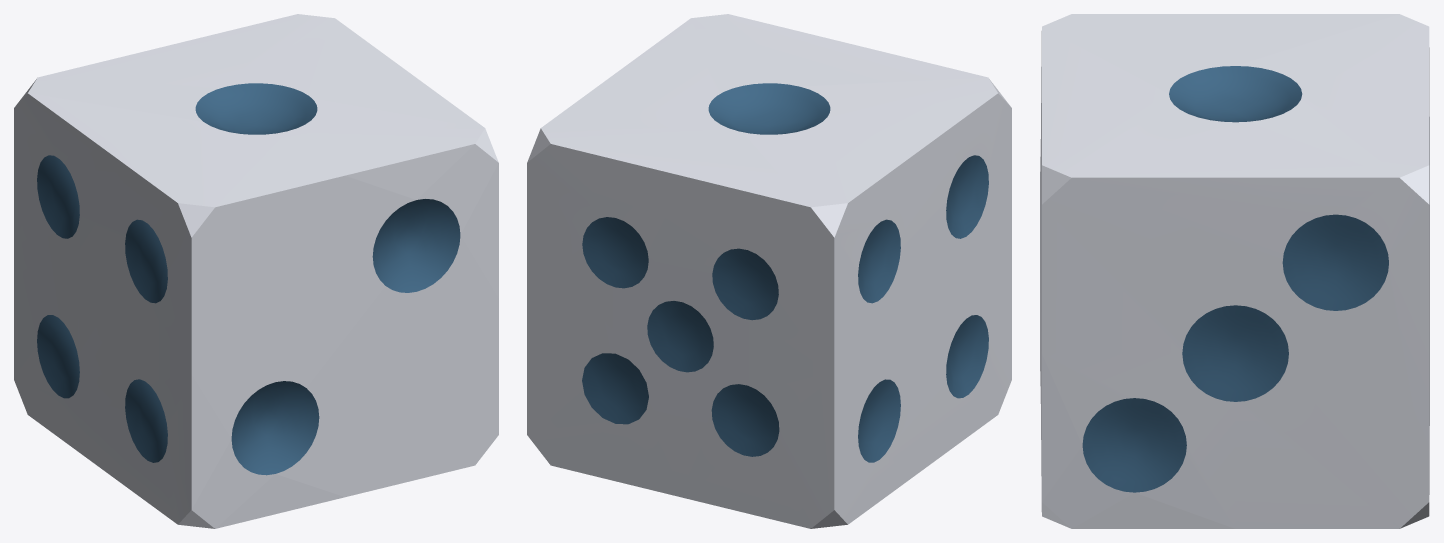
The model's file is Dice_White.fbx.
3 views of the same model, side by side, from view 1: azimuth 30°, elevation 25°; view 2: azimuth 150°, elevation 25°; view 3: azimuth 270°, elevation 25° (orthographic). The views are drawn at different scales.
Visible parts, largest first — view 1: Dice_White; view 2: Dice_White; view 3: Dice_White.
Part boxes in pixels (left/top/right/bottom): Dice_White: left=14, top=14, right=498, bottom=528; Dice_White: left=527, top=14, right=1011, bottom=528; Dice_White: left=1040, top=14, right=1429, bottom=528.
Bounding box in the file's own units: 110 × 111 × 111.
